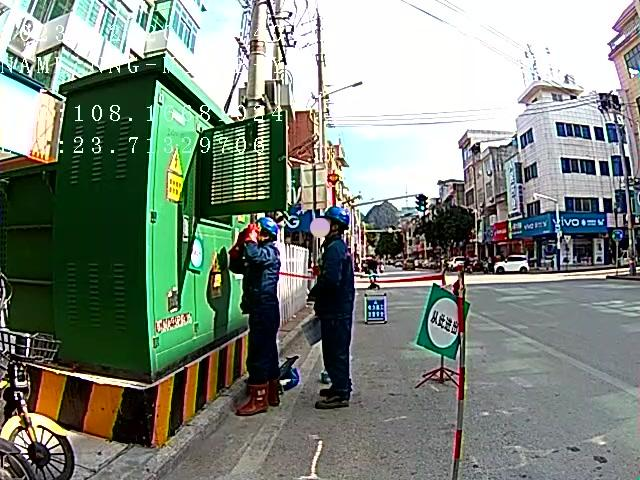halt: (321, 210, 353, 240), (253, 220, 282, 246)
inear: (328, 222, 343, 239)
